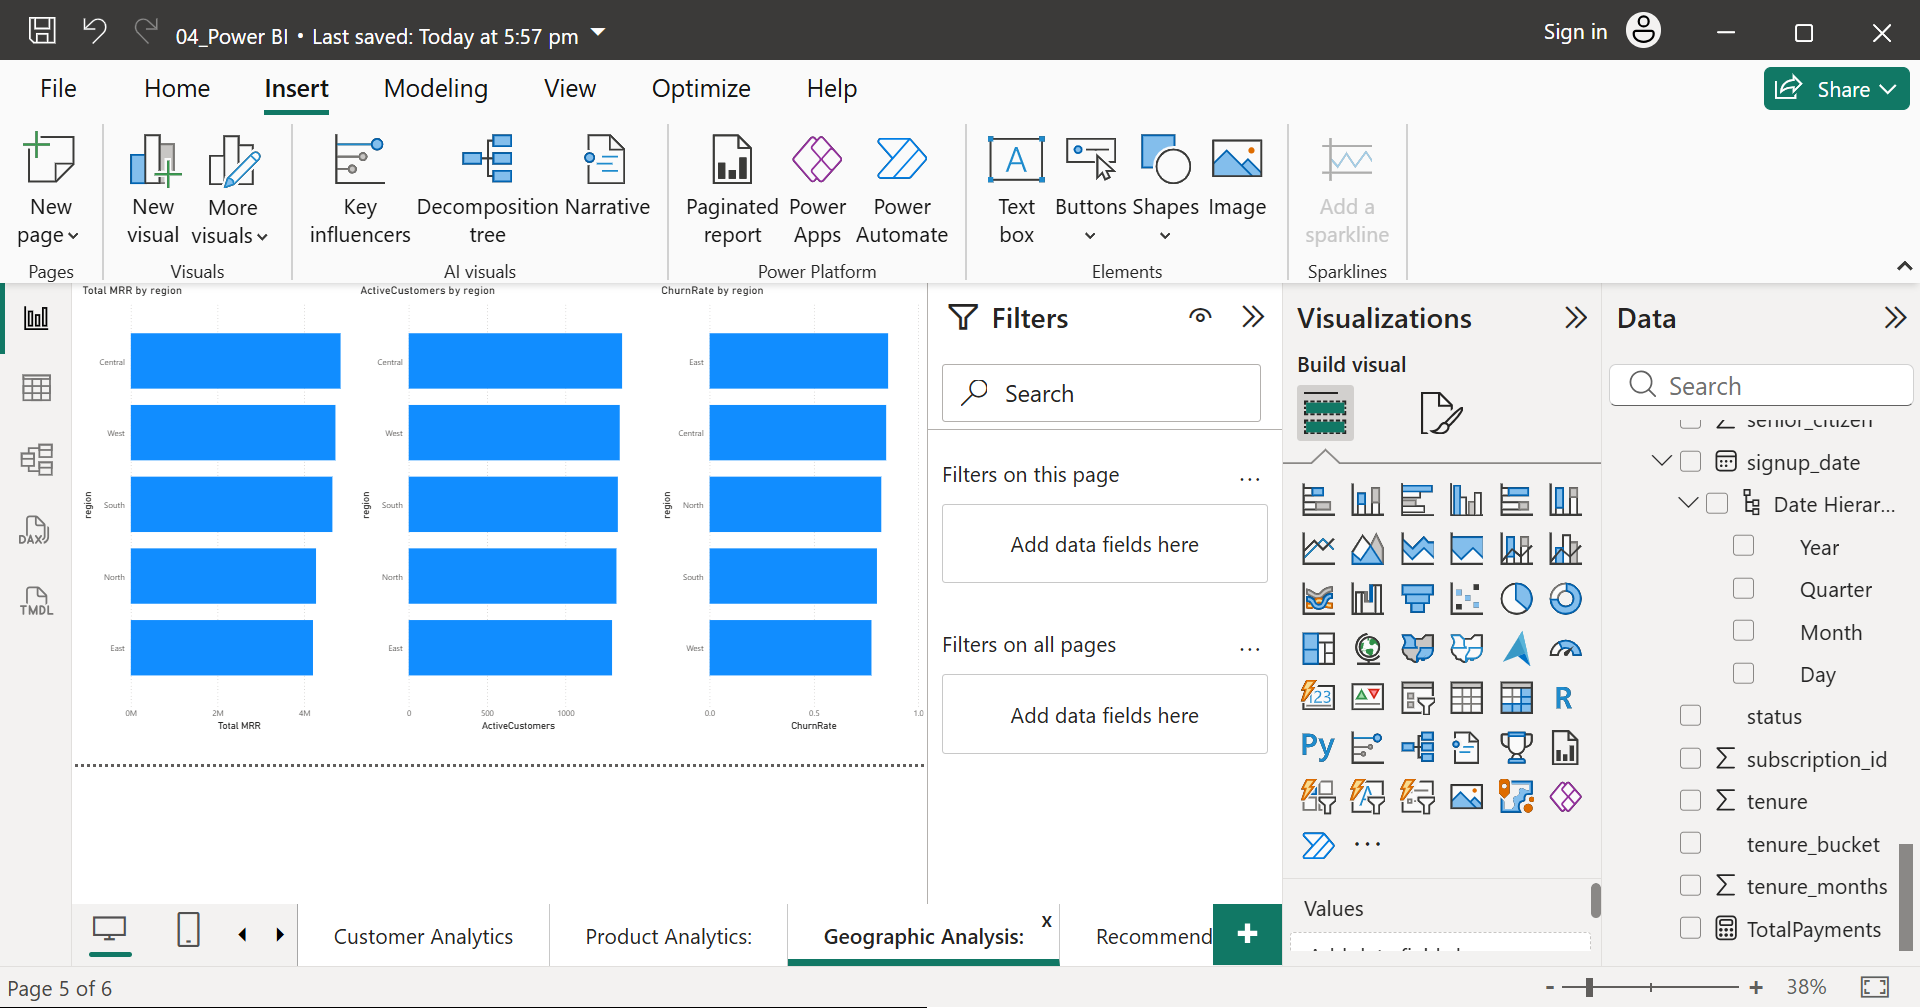

The page's visual inventory and layout, read from the dashboard file:
{"tool":"powerbi","page":{"name":"Geographic Analysis:","canvas":[1280,720],"ordinal":4},"visuals":[{"type":"clusteredBarChart","fields":{"Category":["master_dataset.region"],"Y":["dim_date.Total MRR"]},"box":[10.6,0,416,675.7],"z":0},{"type":"clusteredBarChart","fields":{"Category":["master_dataset.region"],"Y":["master_dataset.ActiveCustomers"]},"box":[426.6,0,424,675.7],"z":1},{"type":"clusteredBarChart","fields":{"Category":["master_dataset.region"],"Y":["master_dataset. ChurnRate"]},"box":[877.1,0,402.8,675.7],"z":2}]}

Visuals, with their boxes on the page's 1280x720 design canvas (x1, y1, x2, y2). These are canvas units, not pixel positions in the 1920x1008 screenshot, which may show the page scaled, cropped or inside an application window:
clusteredBarChart - master_dataset.region x dim_date.Total MRR: box(11, 0, 427, 676)
clusteredBarChart - master_dataset.region x master_dataset.ActiveCustomers: box(427, 0, 851, 676)
clusteredBarChart - master_dataset.region x master_dataset. ChurnRate: box(877, 0, 1280, 676)
